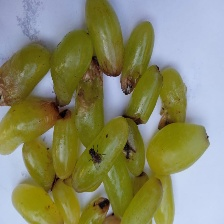grapes: (21, 42, 215, 190)
